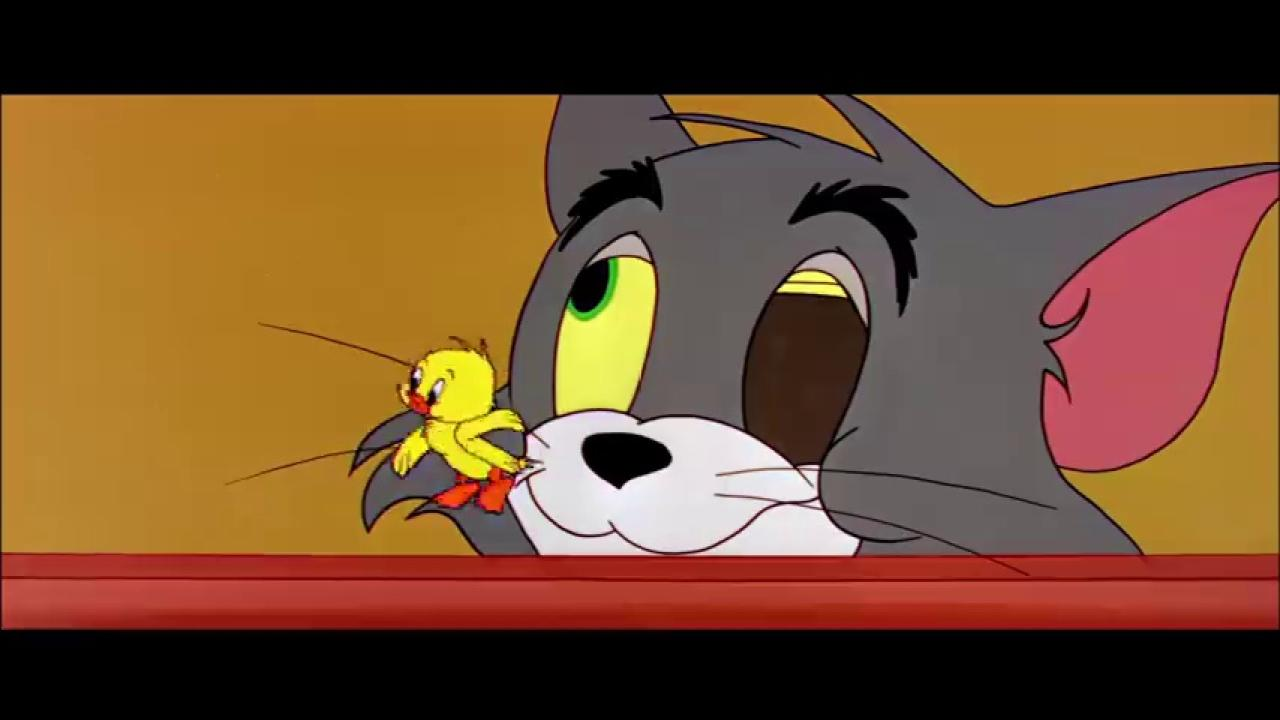Tom: (343, 94, 1280, 552)
